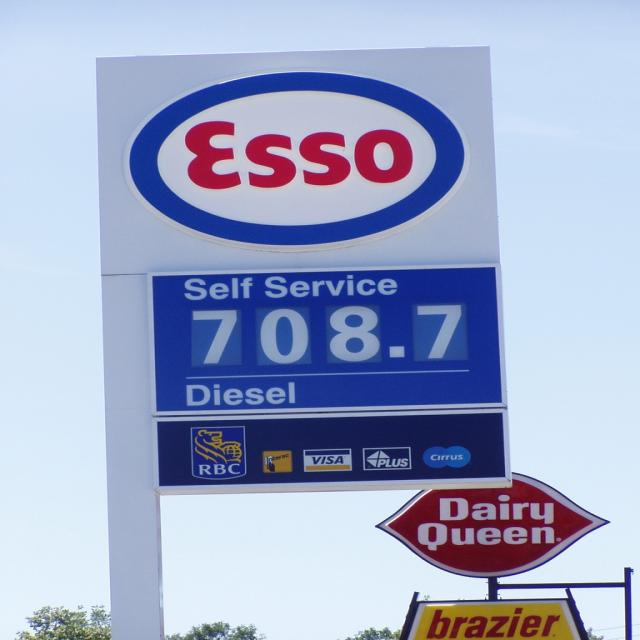esso: (120, 68, 481, 258)
